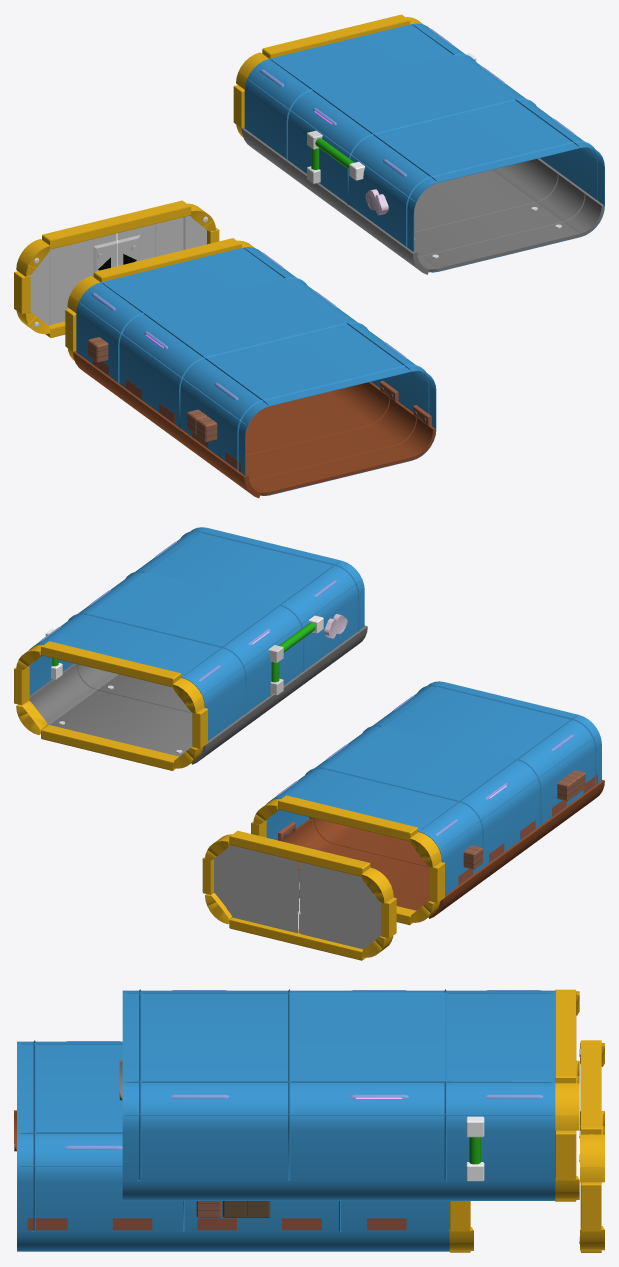
File: TunnelAssets.fbx
3 views of the same model, one above another, from view 1: azimuth 30°, elevation 25°; view 2: azimuth 150°, elevation 25°; view 3: azimuth 270°, elevation 25° (orthographic). The views are drawn at different scales.
Parts seen in each view (by area): view 1: Cube.006, Cube, Cube.001, Cube.008, Door1, Gate.001, Door2, Gate, Gate.002, Cube.005, BoltBlock, Cube.004; view 2: Cube.006, Cube, Cube.008, Cube.001, Door2, Door1, Gate.002, Gate.001, Gate, Cube.010, Cube.005, Cube.003 (+4 smaller); view 3: Cube.006, Cube, BoltBlock, Gate.001, Gate.002, Cube.005, Cube.010, Cube.009, Cube.004, Cube.002, Cube.003, MArioOpenedBlock (+3 smaller).
Part boxes in pixels (left/top/right/bottom): Cube.006: left=244, top=23, right=604, bottom=272; Cube: left=76, top=247, right=436, bottom=495; Cube.001: left=73, top=351, right=435, bottom=498; Cube.008: left=241, top=128, right=604, bottom=274; Door1: left=30, top=233, right=117, bottom=325; Gate.001: left=42, top=200, right=191, bottom=337; Door2: left=117, top=215, right=206, bottom=265; Gate: left=93, top=238, right=241, bottom=282; Gate.002: left=262, top=14, right=410, bottom=58; Cube.005: left=16, top=203, right=215, bottom=334; BoltBlock: left=93, top=360, right=431, bottom=471; Cube.004: left=14, top=227, right=219, bottom=314; Cube.006: left=29, top=527, right=364, bottom=740; Cube: left=266, top=681, right=601, bottom=895; Cube.008: left=29, top=625, right=367, bottom=764; Cube.001: left=282, top=779, right=604, bottom=918; Door2: left=214, top=845, right=298, bottom=933; Door1: left=299, top=862, right=381, bottom=949; Gate.002: left=41, top=641, right=180, bottom=770; Gate.001: left=229, top=830, right=370, bottom=960; Gate: left=278, top=795, right=417, bottom=925; Cube.010: left=16, top=644, right=204, bottom=768; Cube.005: left=205, top=834, right=393, bottom=957; Cube.003: left=253, top=798, right=441, bottom=922; Cube.006: left=122, top=989, right=555, bottom=1200; Cube: left=17, top=1040, right=449, bottom=1251; BoltBlock: left=27, top=1218, right=406, bottom=1230; Gate.001: left=580, top=1040, right=601, bottom=1252; Gate.002: left=555, top=989, right=576, bottom=1201; Cube.005: left=579, top=1043, right=604, bottom=1250; Cube.010: left=555, top=991, right=579, bottom=1199; Cube.009: left=555, top=1130, right=575, bottom=1180; Cube.004: left=581, top=1182, right=601, bottom=1231; Cube.002: left=450, top=1201, right=470, bottom=1231; Cube.003: left=449, top=1227, right=473, bottom=1250; MArioOpenedBlock: left=222, top=1201, right=246, bottom=1217.
Size of the model in its own units: 4893 by 2682 by 4674.
